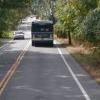Bus: (29, 16, 55, 47)
